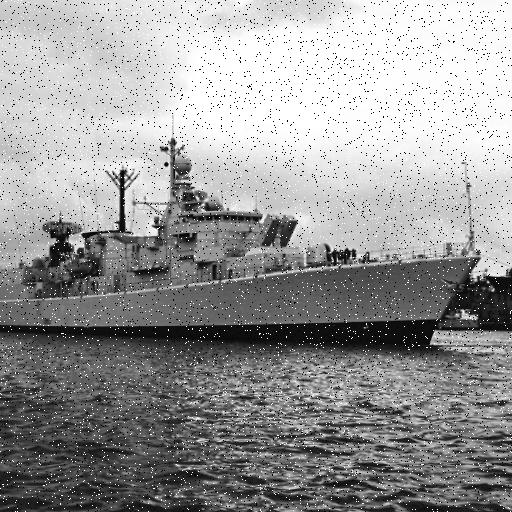Fragata: (1, 110, 486, 356)
